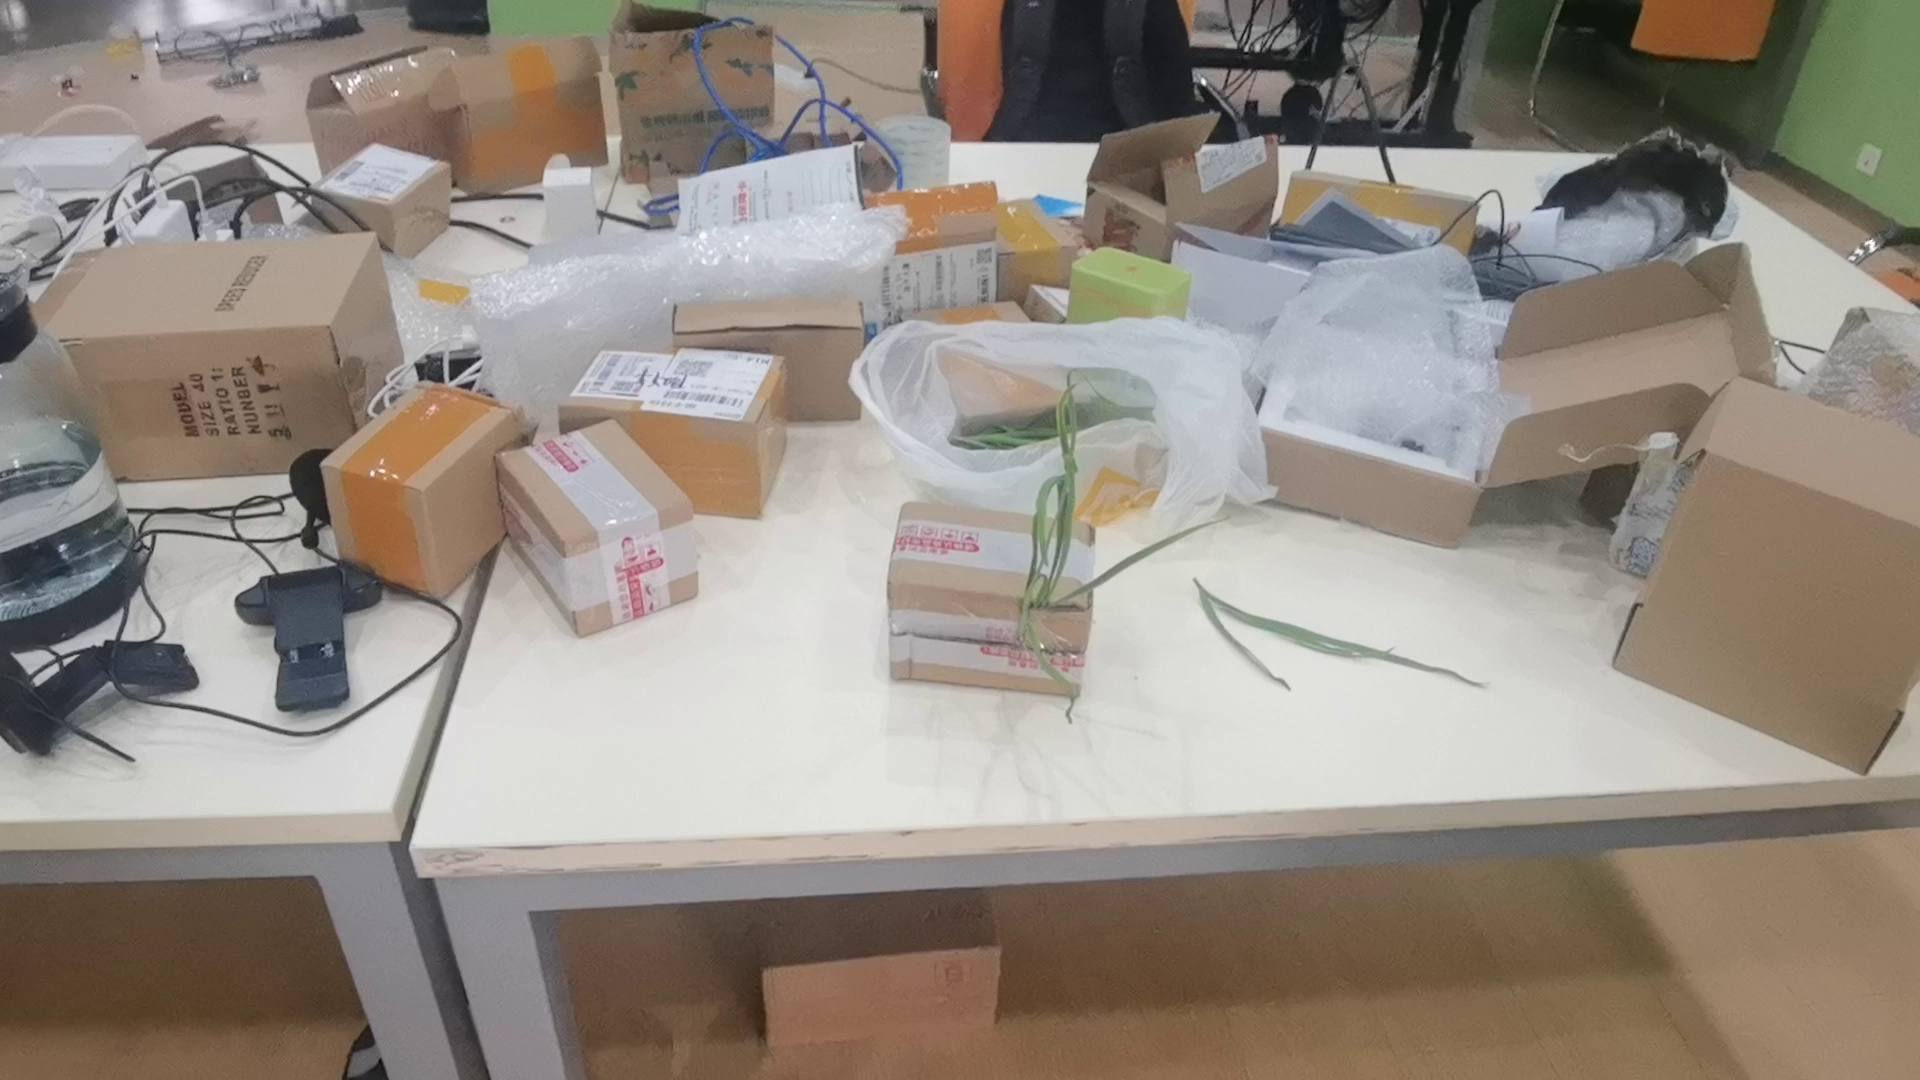chives: (997, 365, 1236, 688), (1174, 564, 1510, 716)
